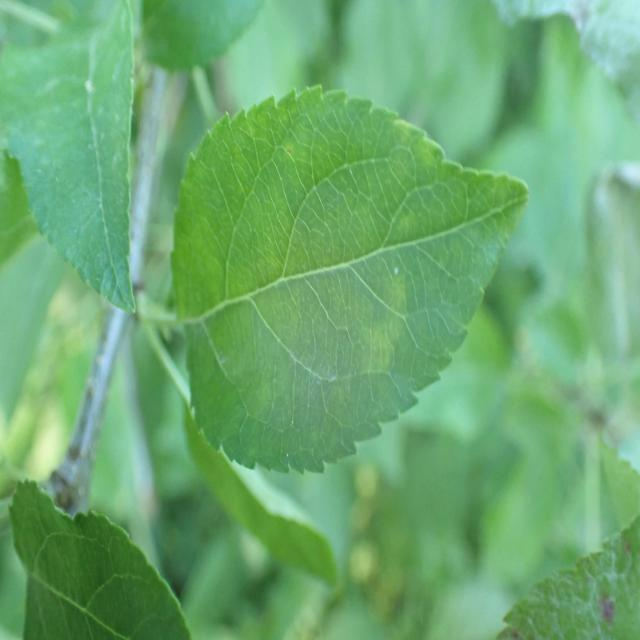scab: (170, 127, 468, 439), (510, 550, 640, 640)
